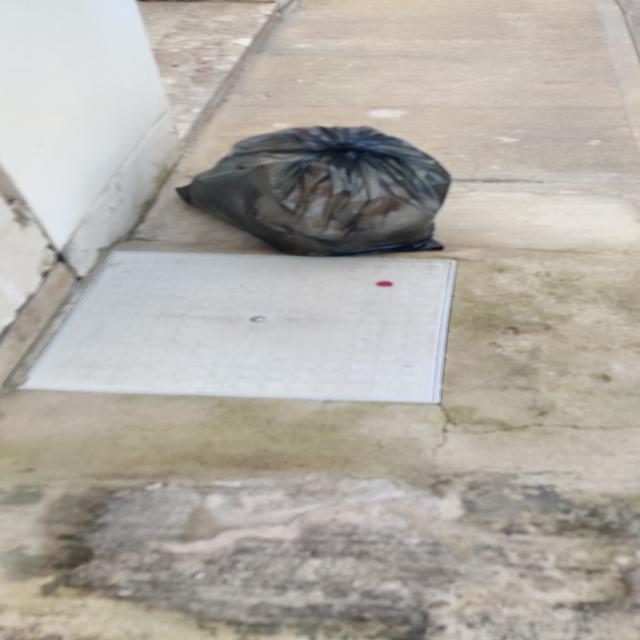Mixed Waste -Black Bags-: (175, 129, 454, 258)
